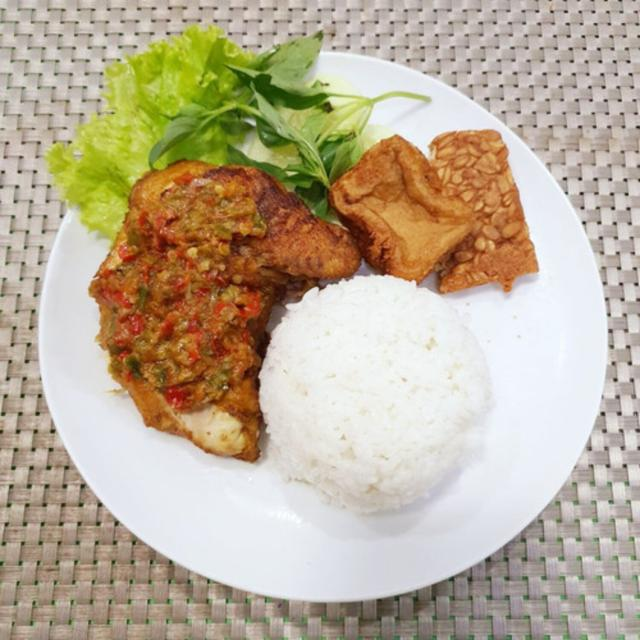ayam goreng: (90, 157, 358, 452)
nasi: (259, 274, 489, 512)
piring: (37, 49, 610, 604)
tahu goreng: (326, 132, 475, 288)
tempe goreng: (428, 126, 541, 296)
